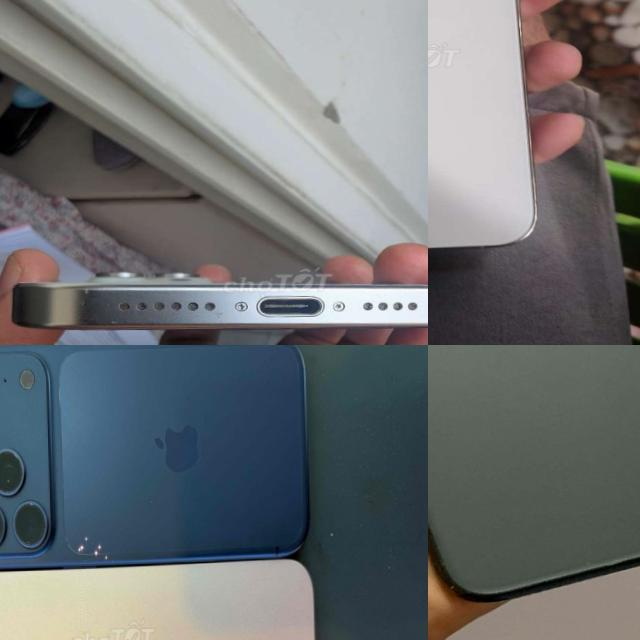scratch: (69, 507, 129, 584), (96, 309, 128, 332), (74, 281, 98, 305), (207, 307, 229, 324)
